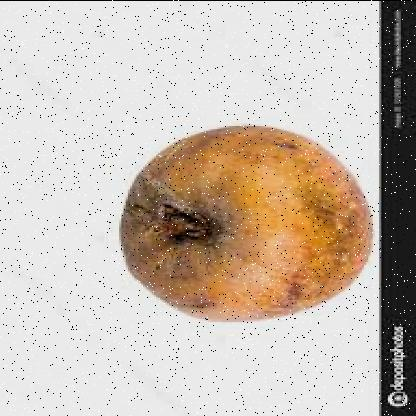damaged_apple: (114, 122, 368, 328)
